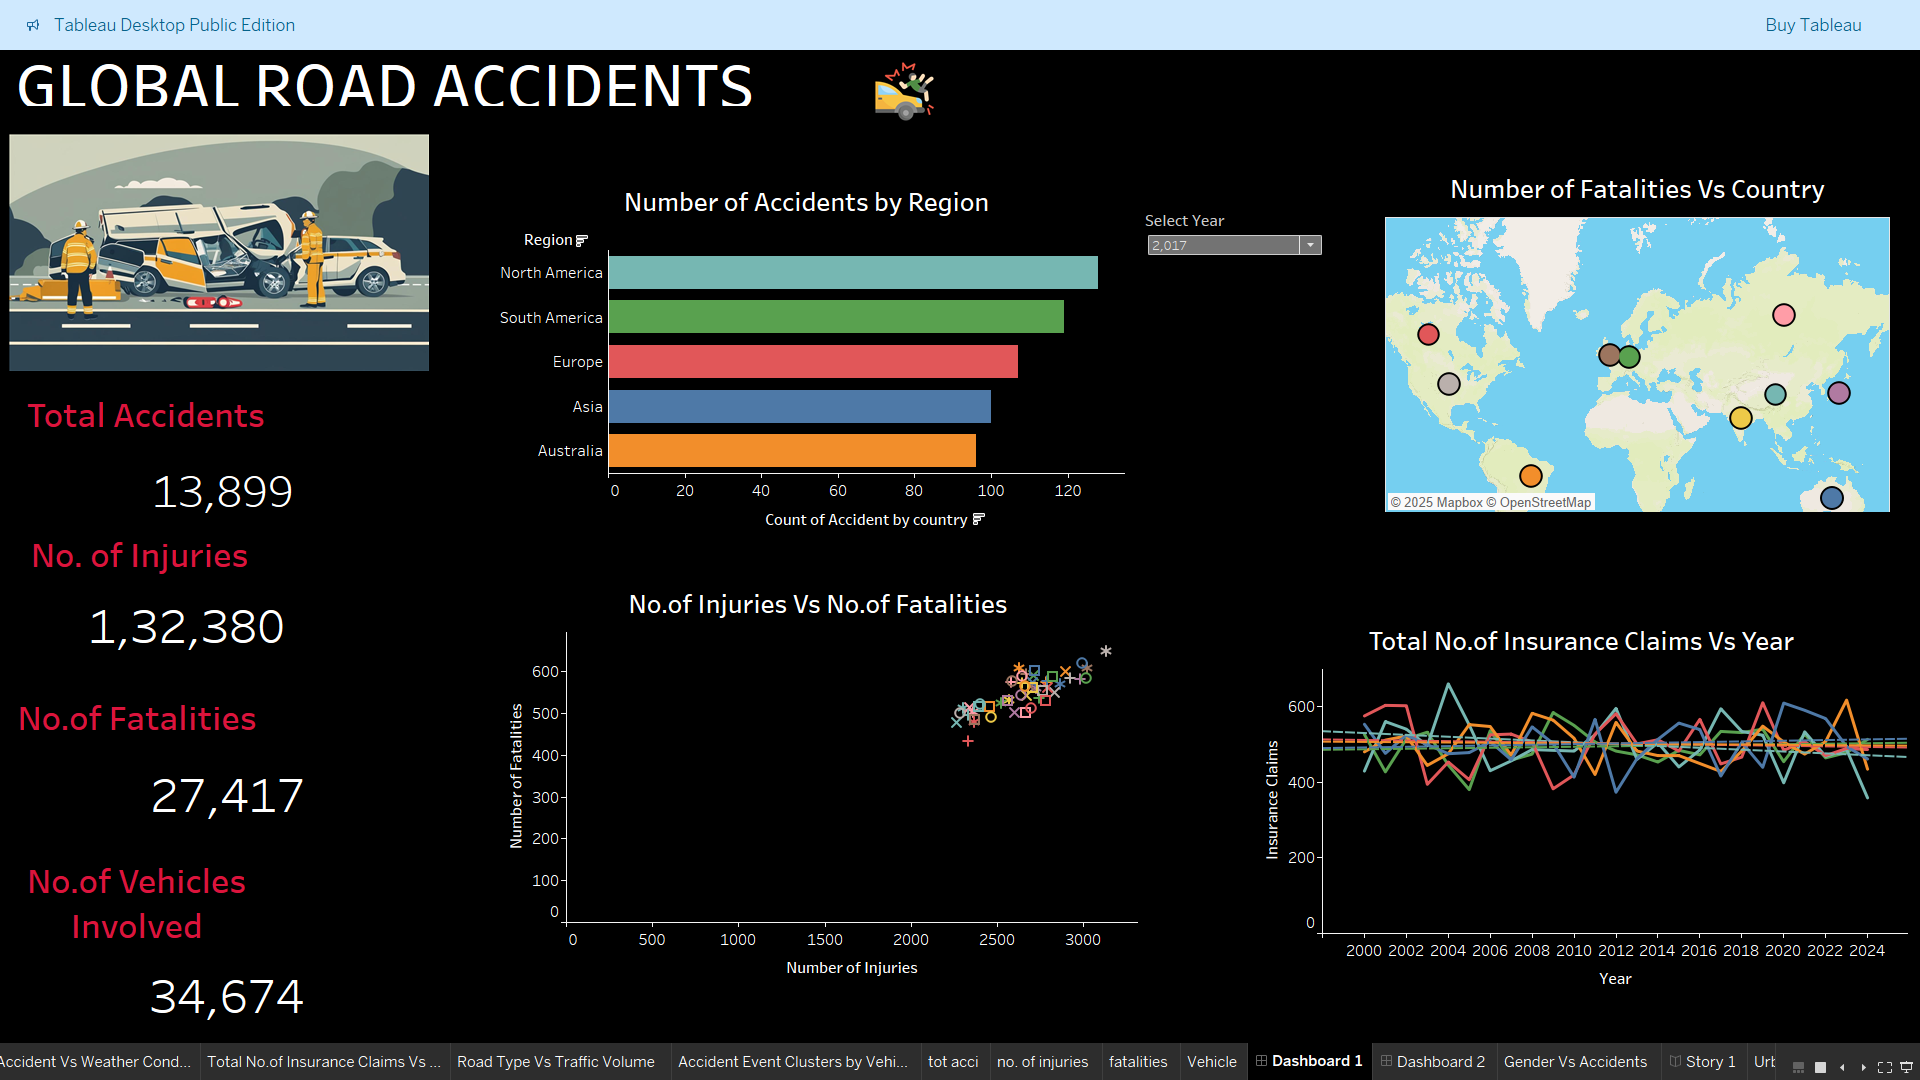

This screenshot's page, from the dashboard's own definition file:
{"tool":"tableau","page":{"name":"Dashboard 1","canvas":[1000,1000],"units":"permille","ordinal":0},"visuals":[{"type":"title","box":[4.8,10,990.3,64.9]},{"type":"image","param":"Image/accident.png","box":[455,11.2,41,61.2]},{"type":"image","param":"Image/road accident image for dashboard.jpg","box":[4.7,84.9,218.5,260.9]},{"type":"worksheet","title":"No.of Fatalities Vs Country","mark":"Automatic","box":[721.2,117.4,263.1,348.3]},{"type":"worksheet","title":"Number of Accidents by Region","mark":"Automatic","rows":["Region"],"cols":["Calculation_1302666195691409410"],"box":[254.1,131.1,331.9,359.6]},{"type":"parameter","param":"[Parameters].[Parameter 1]","box":[596.3,161.1,93.5,59.9]},{"type":"worksheet","title":"No.of Injuries Vs No.of Fatalities","mark":"Automatic","rows":["Number of Fatalities"],"cols":["Number of Injuries"],"box":[259.5,535.6,333.1,405.7]},{"type":"worksheet","title":"Total No.of Insurance Claims Vs Year","mark":"Automatic","rows":["Insurance Claims"],"cols":["Year"],"box":[653,573,341,379.5]}]}

Visuals, with their boxes on the dashboard's canvas, which has no fixed pixel size, in thousandths of its width and height (x1, y1, x2, y2). These are canvas units, not pixel positions in the 1920x1080 screenshot, which may show the page scaled, cropped or inside an application window:
title: (left=5, top=10, right=995, bottom=75)
image: (left=455, top=11, right=496, bottom=72)
image: (left=5, top=85, right=223, bottom=346)
"No.of Fatalities Vs Country" worksheet: (left=721, top=117, right=984, bottom=466)
"Number of Accidents by Region" worksheet: (left=254, top=131, right=586, bottom=491)
parameter: (left=596, top=161, right=690, bottom=221)
"No.of Injuries Vs No.of Fatalities" worksheet: (left=260, top=536, right=593, bottom=941)
"Total No.of Insurance Claims Vs Year" worksheet: (left=653, top=573, right=994, bottom=952)
